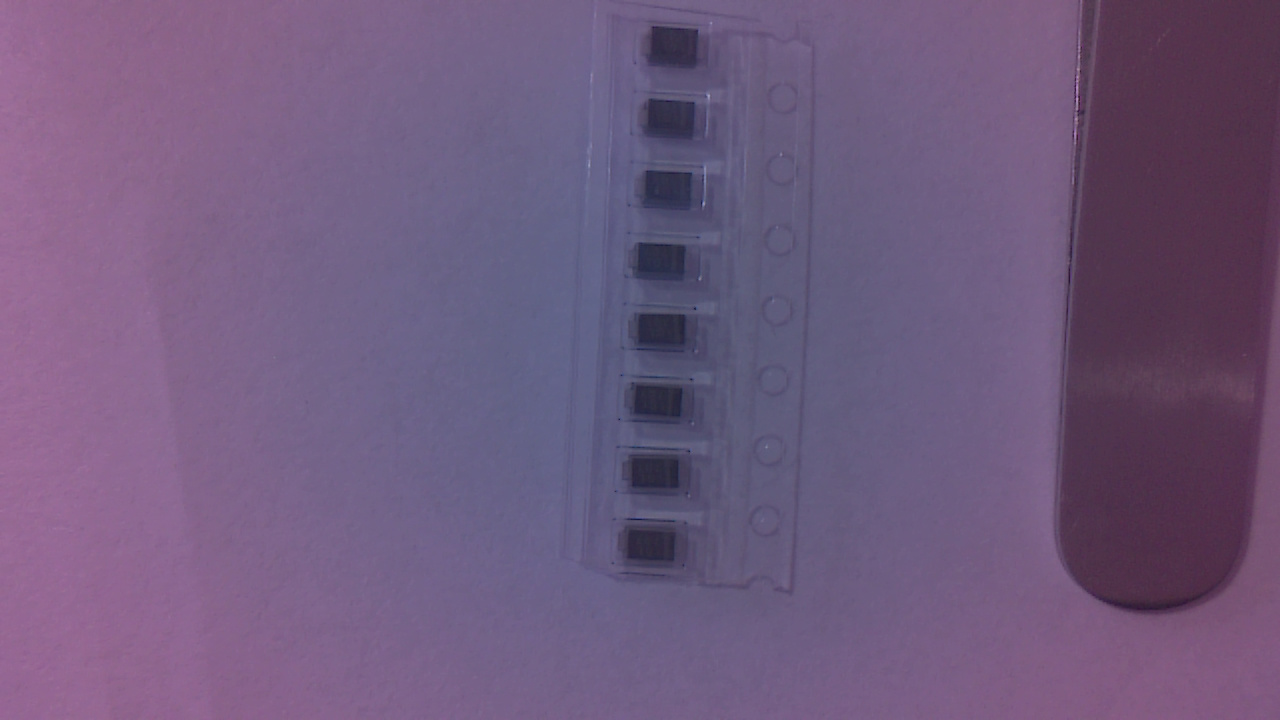Diode: (619, 526, 690, 571), (642, 30, 714, 73), (629, 385, 699, 427), (626, 457, 696, 499), (639, 171, 708, 211), (631, 244, 698, 285), (633, 314, 701, 353), (638, 104, 707, 142)
